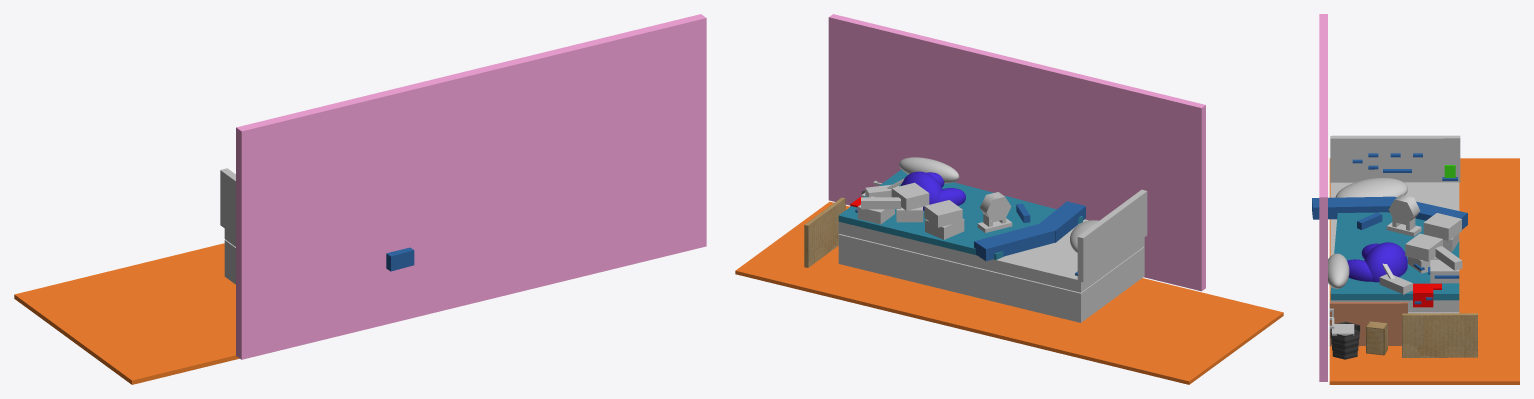
The model's file is kitchen.fbx.
3 renders of one model, left to right at view 1: azimuth 30°, elevation 25°; view 2: azimuth 150°, elevation 25°; view 3: azimuth 270°, elevation 25°, orthographic. The views are drawn at different scales.
Visible parts, largest first — view 1: wall__1_, Floor__1_, BedHead; view 2: wall__1_, Floor__1_, BedBottom, Matress, Cover, BedHead, CardboardBox_1, Cover_1, Pillow_1, Fan, Cover__1_, Pillow (+5 smaller); view 3: Floor__1_, BedHead, Cover, CardboardBox_1, wall__1_, Matress, Cube__12_, Pillow_1, Cover__1_, HeadPillow, Fan, PileOfClothes_4 (+12 smaller).
Boxes of the visible parts, bbox=[...] form: wall__1_: bbox=[236, 14, 706, 359]; Floor__1_: bbox=[14, 243, 239, 384]; BedHead: bbox=[220, 168, 235, 236]; wall__1_: bbox=[828, 14, 1205, 291]; Floor__1_: bbox=[735, 201, 1283, 384]; BedBottom: bbox=[838, 234, 1144, 322]; Matress: bbox=[838, 219, 1144, 292]; Cover: bbox=[838, 169, 1082, 259]; BedHead: bbox=[1077, 189, 1147, 282]; CardboardBox_1: bbox=[804, 197, 845, 267]; Cover_1: bbox=[974, 224, 1054, 261]; Pillow_1: bbox=[901, 171, 965, 210]; Fan: bbox=[977, 192, 1012, 232]; Cover__1_: bbox=[1036, 201, 1085, 242]; Pillow: bbox=[899, 157, 959, 183]; Floor__1_: bbox=[1329, 158, 1519, 384]; BedHead: bbox=[1330, 135, 1460, 182]; Cover: bbox=[1330, 212, 1459, 300]; CardboardBox_1: bbox=[1402, 313, 1477, 357]; wall__1_: bbox=[1319, 14, 1327, 381]; Matress: bbox=[1330, 182, 1459, 312]; Cube__12_: bbox=[1329, 301, 1407, 346]; Pillow_1: bbox=[1347, 242, 1407, 282]; Cover__1_: bbox=[1312, 196, 1394, 219]; HeadPillow: bbox=[1335, 178, 1407, 197]; Fan: bbox=[1386, 194, 1421, 236]; PileOfClothes_4: bbox=[1423, 213, 1461, 240].
Bounding box in the file's own units: 23688 × 9808 × 9289.
